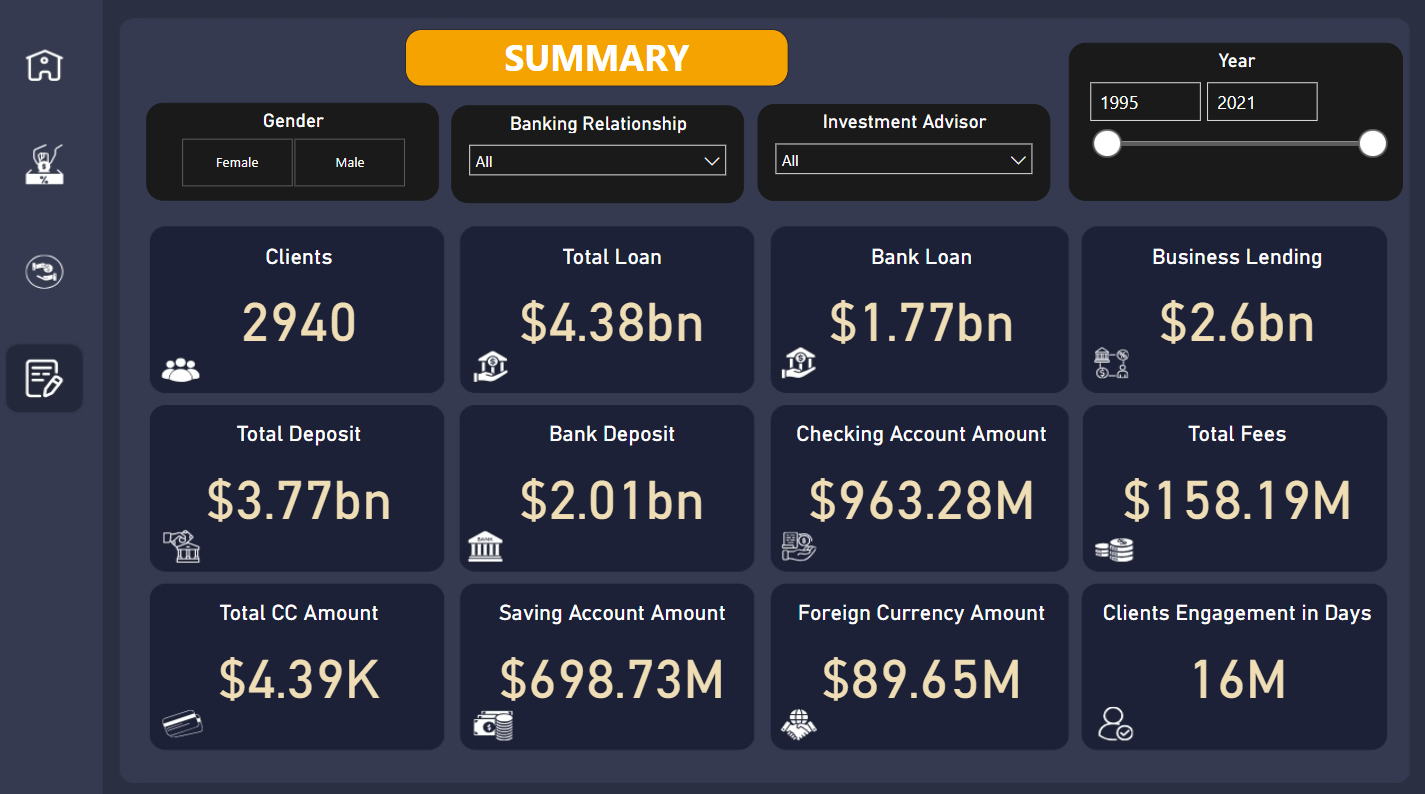

What the dashboard file says about the page in this screenshot:
{"tool":"powerbi","page":{"name":"Summary","canvas":[1280,720],"ordinal":3},"visuals":[{"type":"actionButton","box":[10,123.2,70.2,63],"z":0},{"type":"actionButton","box":[8.6,31.5,70.2,63],"z":1000},{"type":"actionButton","box":[10,214.8,70.2,63],"z":2000},{"type":"actionButton","box":[8.6,309.3,70.2,63],"z":3000},{"type":"card","title":"Total Loan","fields":{"Values":["DAX Measures.Total Loan"]},"box":[427.6,222.3,244.4,117],"z":4000},{"type":"card","title":"Bank Loan","fields":{"Values":["DAX Measures.Bank Loan"]},"box":[699.3,222.3,252.2,117],"z":5000},{"type":"card","title":"Business Lending","fields":{"Values":["DAX Measures.Business Lending"]},"box":[976.1,222.3,260,117],"z":6000},{"type":"card","title":"Clients","fields":{"Values":["DAX Measures.Total Clients"]},"box":[145.6,222.3,249.6,117],"z":7000},{"type":"card","title":"Clients Engagement in Days","fields":{"Values":["DAX Measures.Engagment Length"]},"box":[976.1,539.4,260,117],"z":8000},{"type":"card","title":"Foreign Currency Amount","fields":{"Values":["DAX Measures.Foreign Currency Account"]},"box":[699.3,539.4,252.2,117],"z":9000},{"type":"card","title":"Saving Account Amount","fields":{"Values":["DAX Measures.Savings Account"]},"box":[427.6,539.4,244.4,117],"z":10000},{"type":"card","title":"Total CC Amount","fields":{"Values":["DAX Measures.Total CC Amount"]},"box":[145.6,539.4,249.6,117],"z":11000},{"type":"card","title":"Total Deposit","fields":{"Values":["DAX Measures.Total Deposit"]},"box":[145.6,380.8,249.6,117],"z":12000},{"type":"card","title":"Bank Deposit","fields":{"Values":["DAX Measures.Bank Deposit"]},"box":[427.6,380.8,244.4,117],"z":13000},{"type":"card","title":"Checking Account Amount","fields":{"Values":["DAX Measures.Checking Accounts"]},"box":[699.3,380.8,252.2,117],"z":14000},{"type":"card","title":"Total Fees","fields":{"Values":["DAX Measures.Total Fees"]},"box":[976.1,380.8,260,117],"z":15000},{"type":"slicer","title":"Gender","fields":{"Values":["Gender.Gender"]},"box":[134.9,96.5,260.5,87.2],"z":16000},{"type":"slicer","title":"Banking Relationship","fields":{"Values":["Banking Relationship.Banking Relationship"]},"box":[405.8,98.8,260.5,87.2],"z":17000},{"type":"slicer","title":"Investment Advisor","fields":{"Values":["Investment Advisor.Investment Advisor"]},"box":[679.1,97.7,260.5,86],"z":18000},{"type":"slicer","title":"Year","fields":{"Values":["Clients - Banking.Joined Bank.Variation.Date Hierarchy.Year"]},"box":[955.8,43,297.7,140.7],"z":19000},{"type":"textbox","box":[365.1,31.4,341.9,51.2],"z":20000}]}

Visuals, with their boxes on the page's 1280x720 design canvas (x1, y1, x2, y2). These are canvas units, not pixel positions in the 1425x794 screenshot, which may show the page scaled, cropped or inside an application window:
actionButton: (x1=10, y1=123, x2=80, y2=186)
actionButton: (x1=9, y1=32, x2=79, y2=94)
actionButton: (x1=10, y1=215, x2=80, y2=278)
actionButton: (x1=9, y1=309, x2=79, y2=372)
"Total Loan" card: (x1=428, y1=222, x2=672, y2=339)
"Bank Loan" card: (x1=699, y1=222, x2=952, y2=339)
"Business Lending" card: (x1=976, y1=222, x2=1236, y2=339)
"Clients" card: (x1=146, y1=222, x2=395, y2=339)
"Clients Engagement in Days" card: (x1=976, y1=539, x2=1236, y2=656)
"Foreign Currency Amount" card: (x1=699, y1=539, x2=952, y2=656)
"Saving Account Amount" card: (x1=428, y1=539, x2=672, y2=656)
"Total CC Amount" card: (x1=146, y1=539, x2=395, y2=656)
"Total Deposit" card: (x1=146, y1=381, x2=395, y2=498)
"Bank Deposit" card: (x1=428, y1=381, x2=672, y2=498)
"Checking Account Amount" card: (x1=699, y1=381, x2=952, y2=498)
"Total Fees" card: (x1=976, y1=381, x2=1236, y2=498)
"Gender" slicer: (x1=135, y1=96, x2=395, y2=184)
"Banking Relationship" slicer: (x1=406, y1=99, x2=666, y2=186)
"Investment Advisor" slicer: (x1=679, y1=98, x2=940, y2=184)
"Year" slicer: (x1=956, y1=43, x2=1254, y2=184)
textbox: (x1=365, y1=31, x2=707, y2=83)
